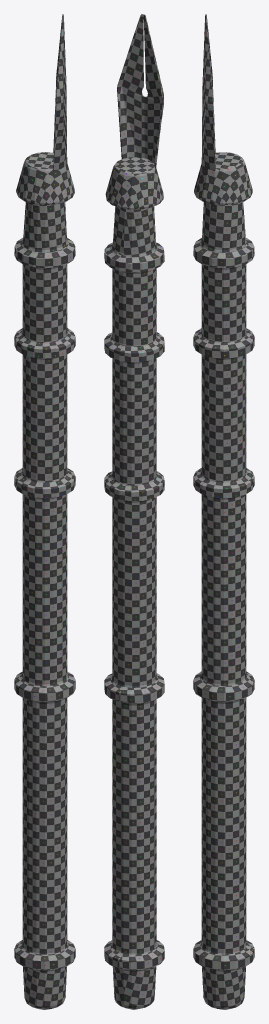
Rendered from Ink_Pen.glb.
The picture shows the model from 3 angles, left to right: view 1: azimuth 90°, elevation 25°; view 2: azimuth 150°, elevation 25°; view 3: azimuth 270°, elevation 25°; orthographic projection.
Parts seen in each view (by area): view 1: Ink_Pen_Base; view 2: Ink_Pen_Base; view 3: Ink_Pen_Base.
Part boxes in pixels (x1,y1,x2,y2): Ink_Pen_Base: (14,14,75,1009); Ink_Pen_Base: (104,14,164,1009); Ink_Pen_Base: (193,14,254,1009).
Size of the model in its own units: 0.1907 by 3.42 by 0.1907.
Materials: 1 (1 with a texture image).
